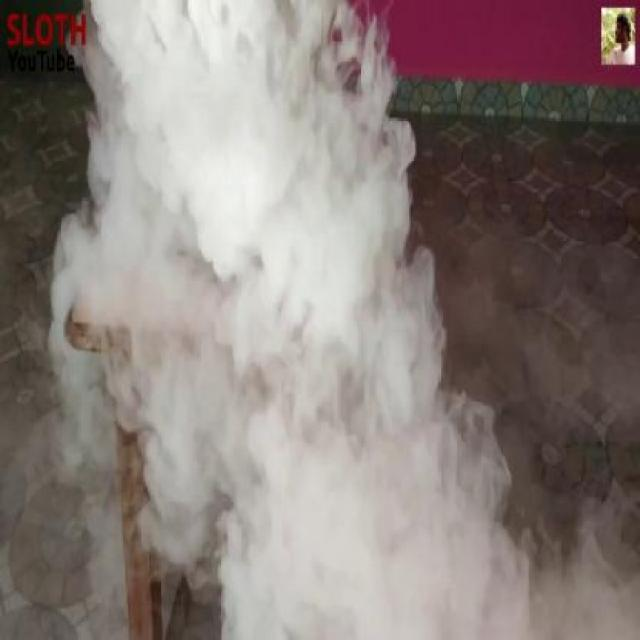smoke: (90, 4, 504, 640)
